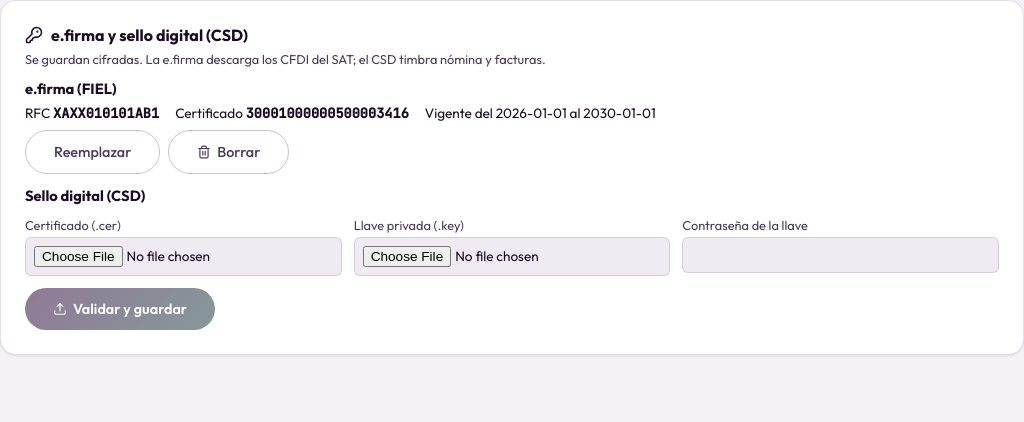
CredencialesCliente › borra con confirmación
The width and height of the screenshot is (1024, 422).
Click the button "Borrar" at (229, 152), box [168,130,289,174]
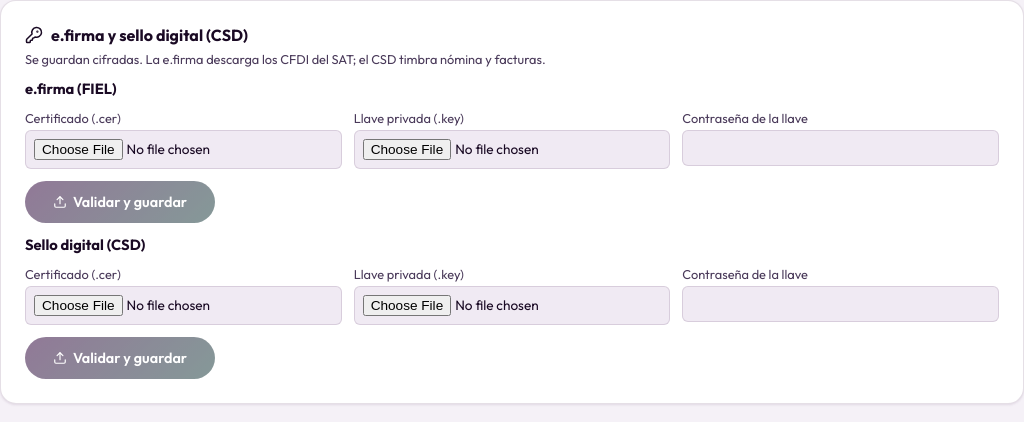
Check: the form named "Subir efirma" is shown, box [25,110,999,223]
